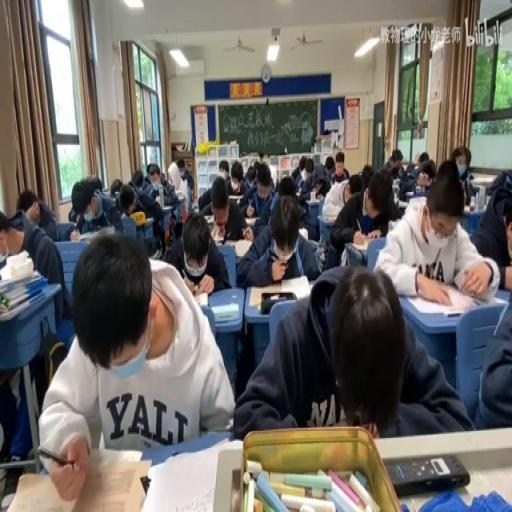calculator: (404, 283, 478, 317), (246, 275, 310, 307), (210, 300, 238, 322), (350, 234, 380, 252), (78, 228, 108, 244), (233, 236, 252, 256), (190, 288, 208, 306), (320, 213, 338, 225), (304, 196, 322, 206), (243, 214, 258, 224), (298, 226, 308, 240), (403, 189, 416, 199), (462, 205, 478, 213), (202, 214, 214, 224), (211, 234, 223, 244), (174, 189, 184, 199), (397, 199, 408, 208), (227, 192, 241, 199), (144, 216, 154, 225), (295, 189, 304, 198), (160, 204, 172, 210), (192, 200, 198, 212)
paper: (40, 232, 230, 496), (233, 263, 470, 440), (1, 196, 67, 342), (1, 322, 67, 466), (236, 191, 322, 287), (330, 165, 399, 263), (473, 265, 512, 429), (166, 208, 230, 294), (467, 175, 512, 277), (68, 175, 117, 235), (144, 161, 177, 209), (450, 144, 474, 206), (171, 165, 194, 222), (295, 159, 320, 202), (223, 161, 246, 195), (16, 188, 40, 214), (382, 148, 404, 176), (330, 150, 348, 180), (118, 186, 136, 216), (417, 161, 435, 189), (277, 174, 297, 196), (347, 174, 363, 196), (360, 164, 374, 186), (130, 168, 144, 190), (198, 189, 211, 212), (108, 178, 122, 198), (244, 164, 256, 186), (267, 162, 277, 188), (402, 161, 416, 176), (174, 159, 184, 178), (418, 150, 428, 164), (305, 165, 313, 176), (160, 170, 166, 184), (144, 174, 150, 186), (326, 165, 332, 175)
person: (385, 452, 470, 494), (139, 474, 150, 495)
